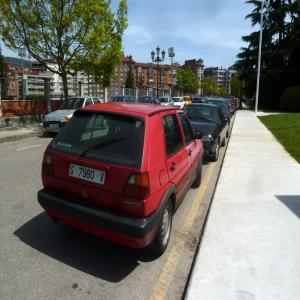Vehicle-registration-plate: (68, 166, 106, 186), (49, 125, 60, 130)
